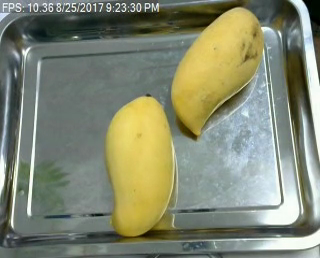Mango: (168, 4, 263, 136), (104, 94, 176, 235)
